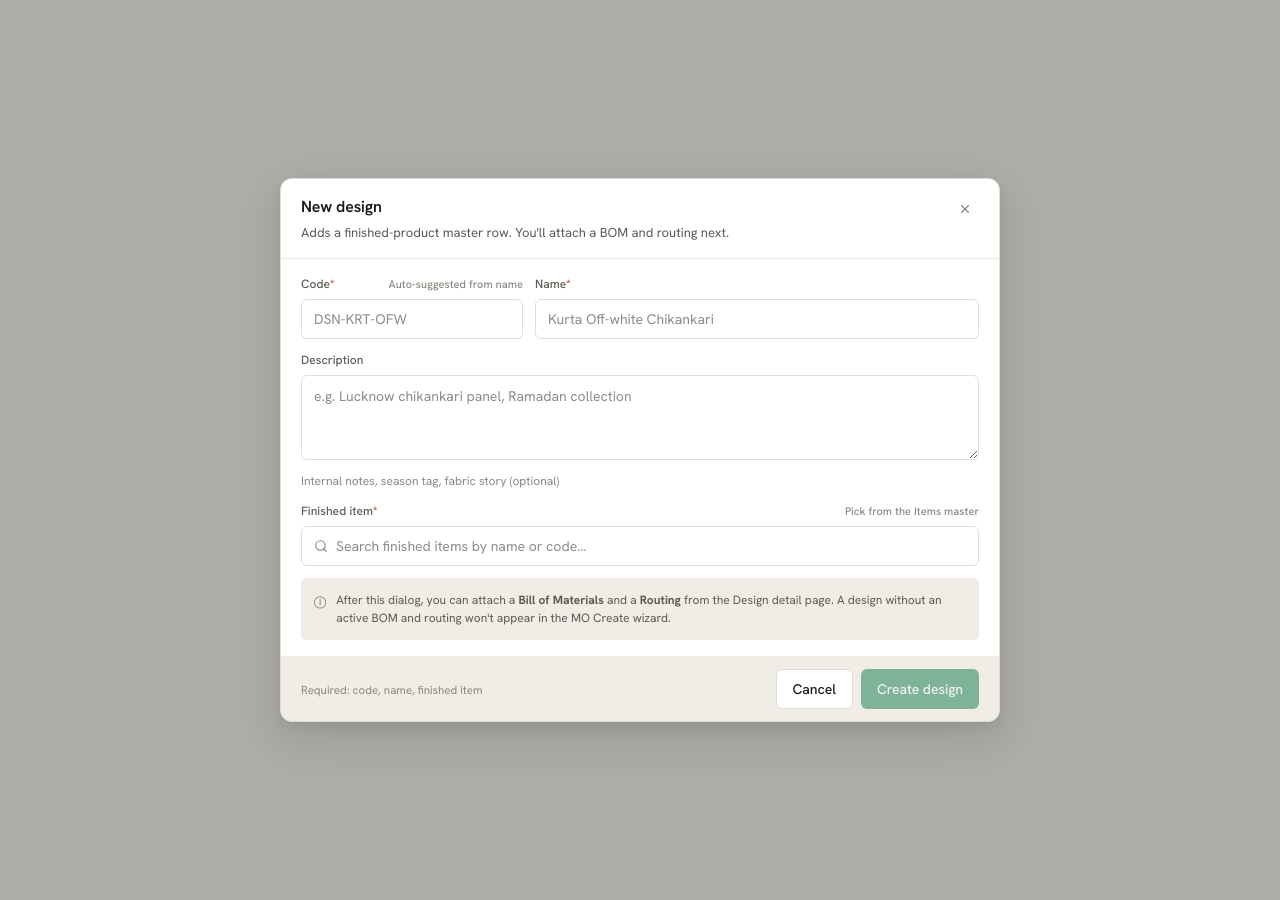
Test case: NewDesignDialog (live-mode, TASK-TR-E1) › Submit surfaces BE field_errors per-field on 422
The width and height of the screenshot is (1280, 900).
Type "Anarkali Pink" into the field labelled "Name*" at (757, 319), box [536,309,978,330]
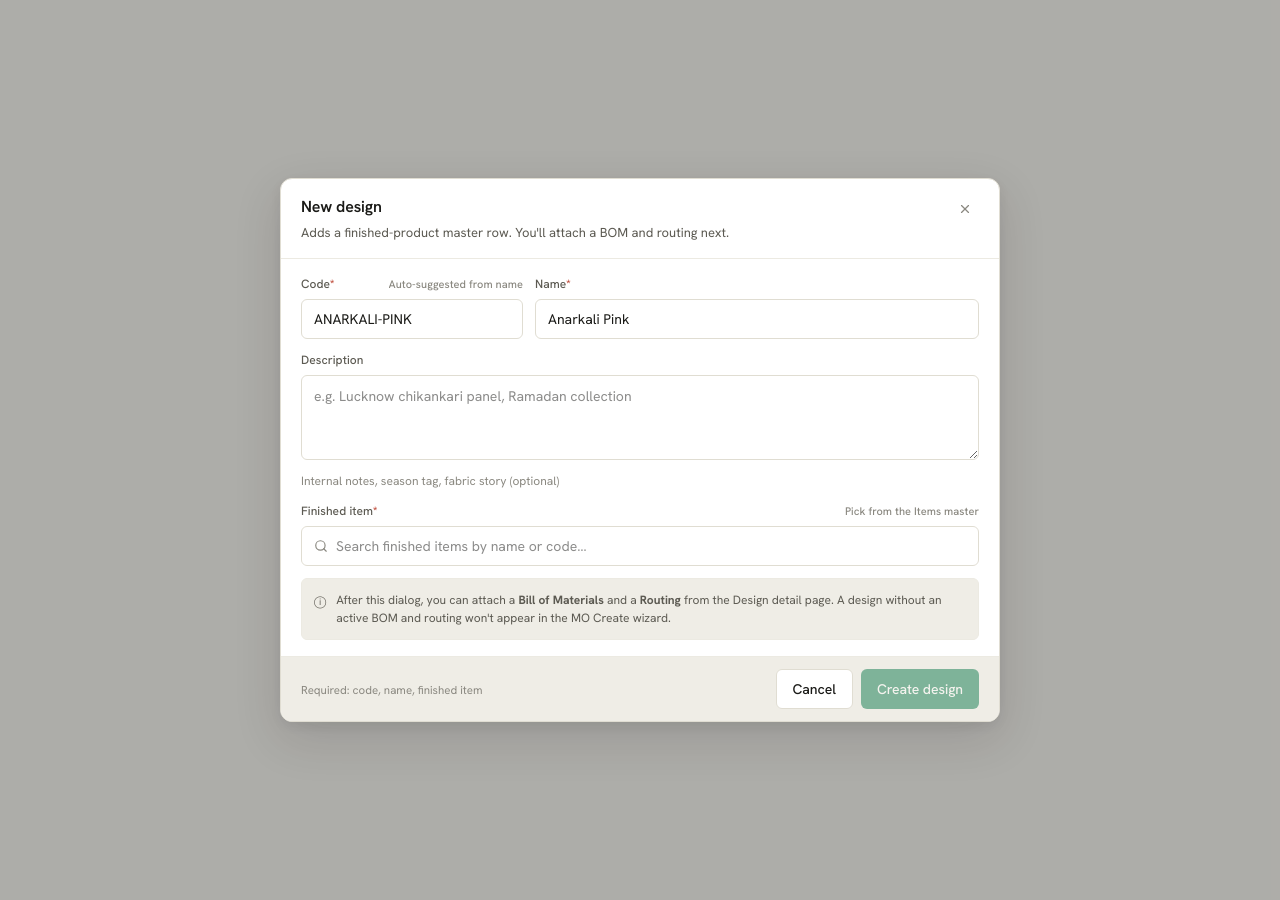
Type "kurta" into the field labelled "Finished item* Pick from the Items master" at (651, 546), box [336,536,966,557]
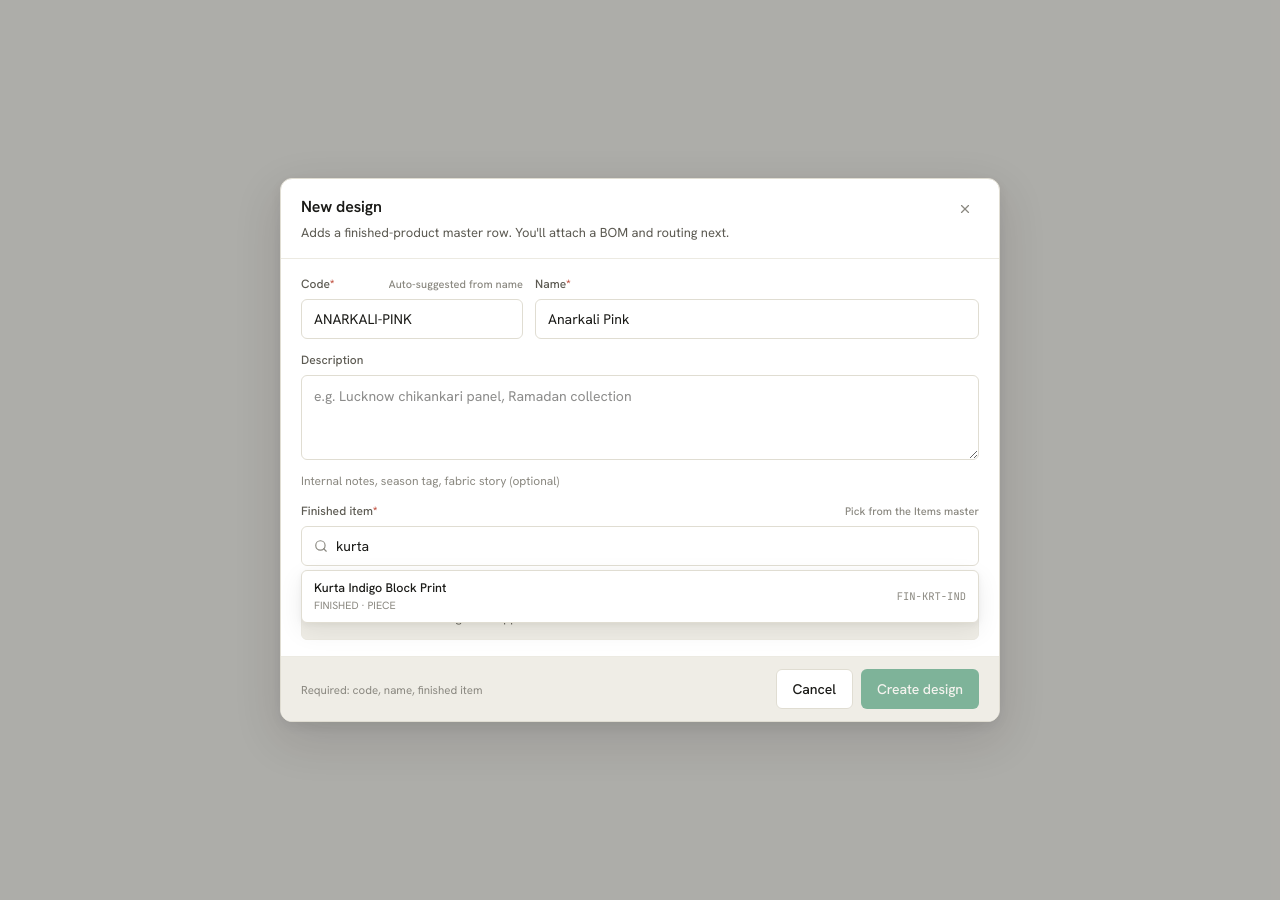
Check: the text "Kurta Indigo Block Print" is shown
Click the text "Kurta Indigo Block Print" at (380, 588), box [314,579,446,596]
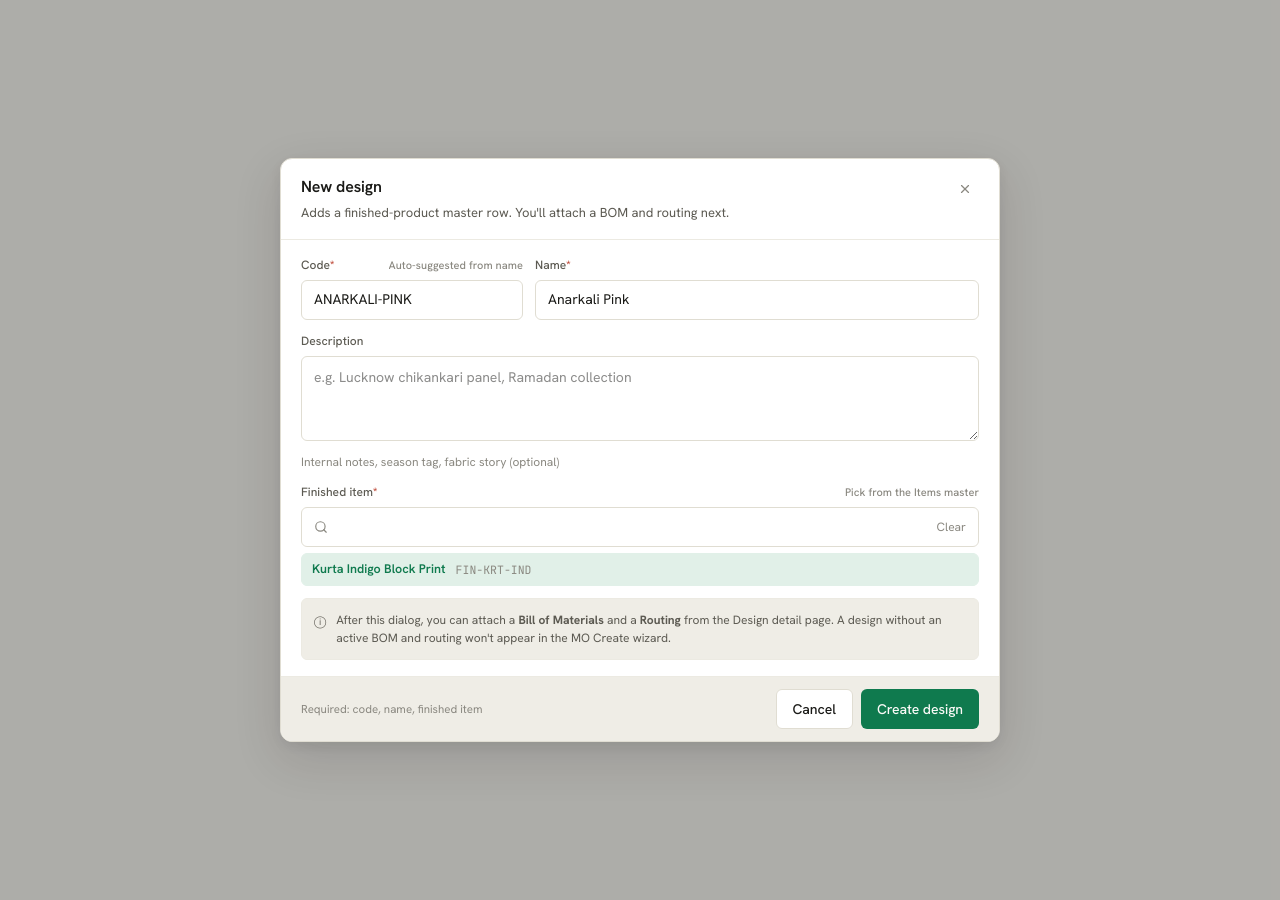
Check: the button "Create design" is enabled
Click the button "Create design" at (920, 709), box [861,689,979,729]
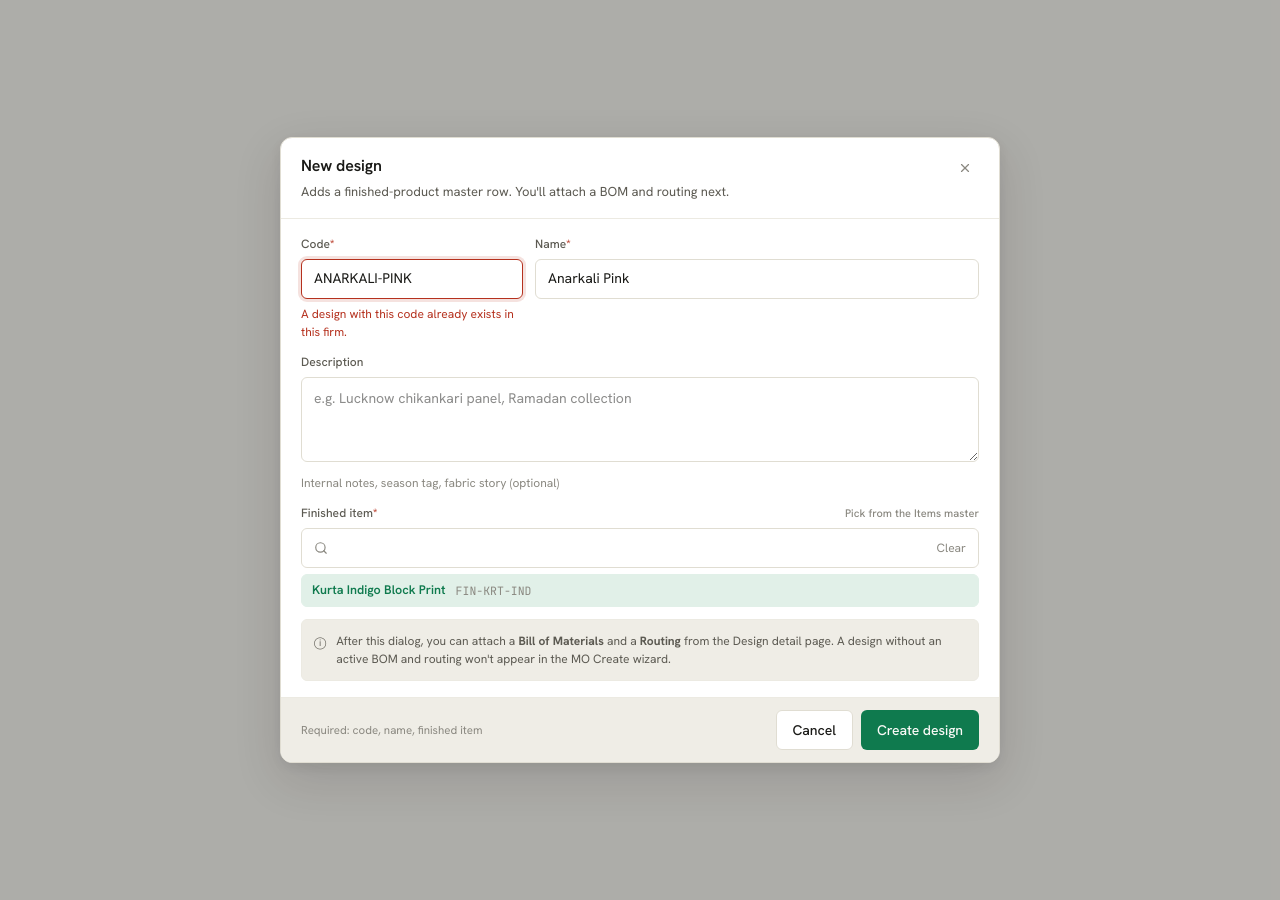
Check: the text "A design with this code already exists in this firm." is shown, box [301,305,523,341]
